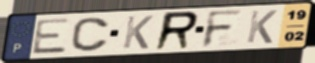C: (69, 16, 111, 53)
E: (30, 17, 73, 56)
F: (200, 8, 246, 49)
K: (120, 14, 156, 50), (244, 9, 279, 45)
R: (152, 10, 202, 52)
